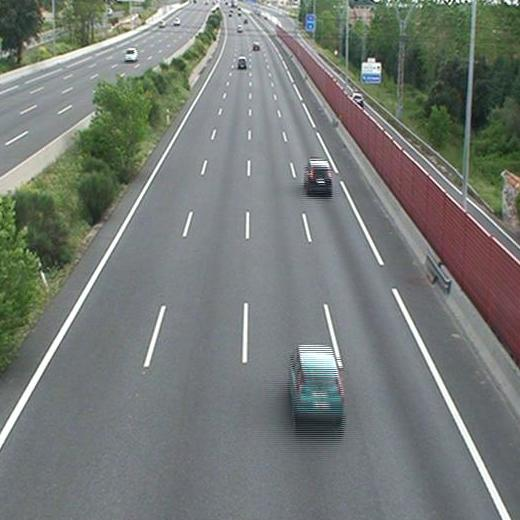car: (291, 348, 342, 415), (305, 161, 332, 191), (236, 58, 247, 69), (253, 40, 261, 51)
